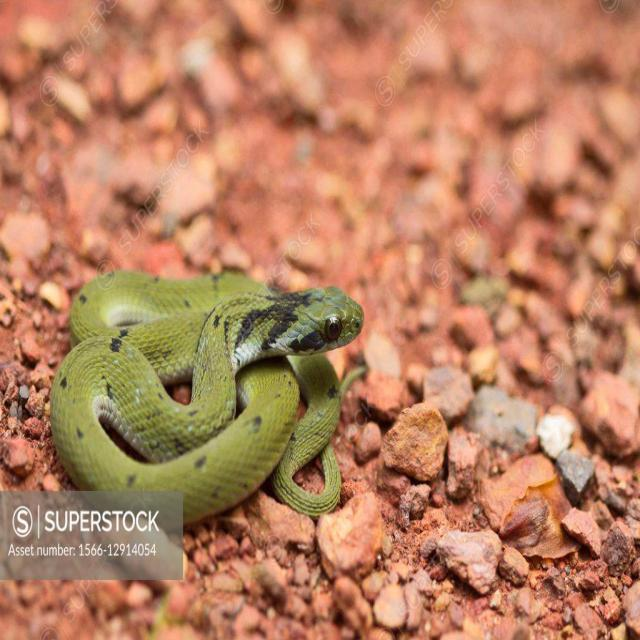Snake: (47, 264, 370, 534)
